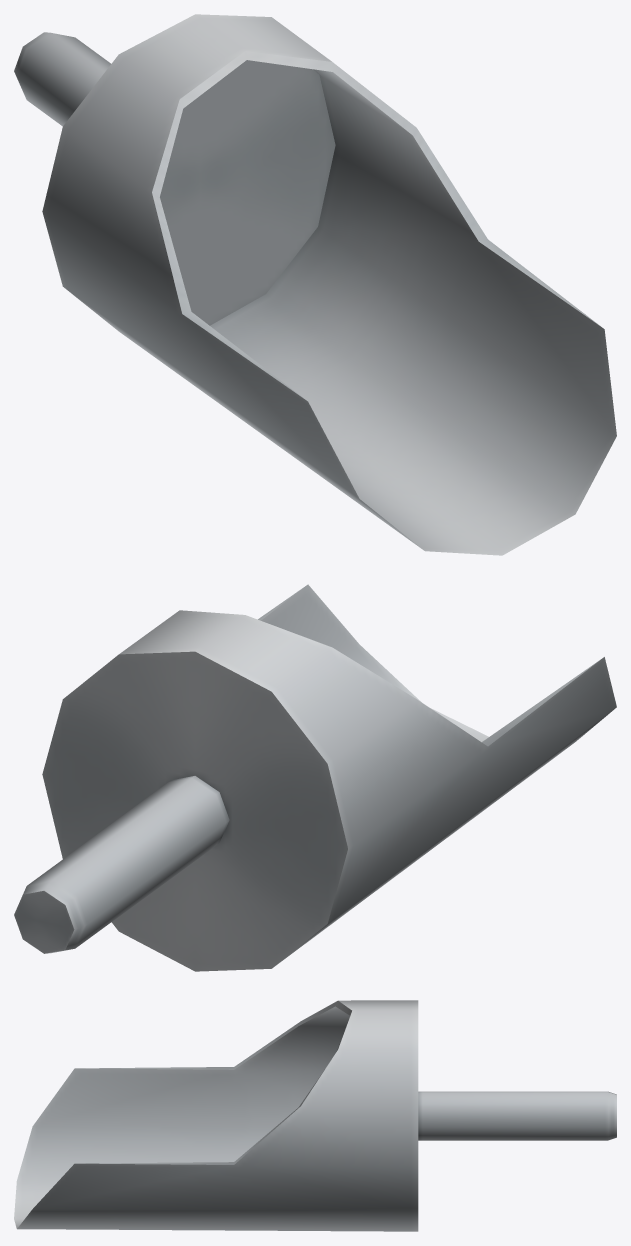
File: jsf_Scoop.fbx
The picture shows the model from 3 angles, top to bottom: view 1: azimuth 30°, elevation 25°; view 2: azimuth 150°, elevation 25°; view 3: azimuth 270°, elevation 25°; orthographic projection. The views are drawn at different scales.
Parts seen in each view (by area): view 1: jsf_Scoop; view 2: jsf_Scoop; view 3: jsf_Scoop.
Part boxes in pixels (left/top/right/bottom): jsf_Scoop: left=14, top=14, right=616, bottom=555; jsf_Scoop: left=14, top=584, right=616, bottom=971; jsf_Scoop: left=14, top=1000, right=616, bottom=1231.
Bounding box in the file's own units: 14.06 × 14.06 × 36.5.
